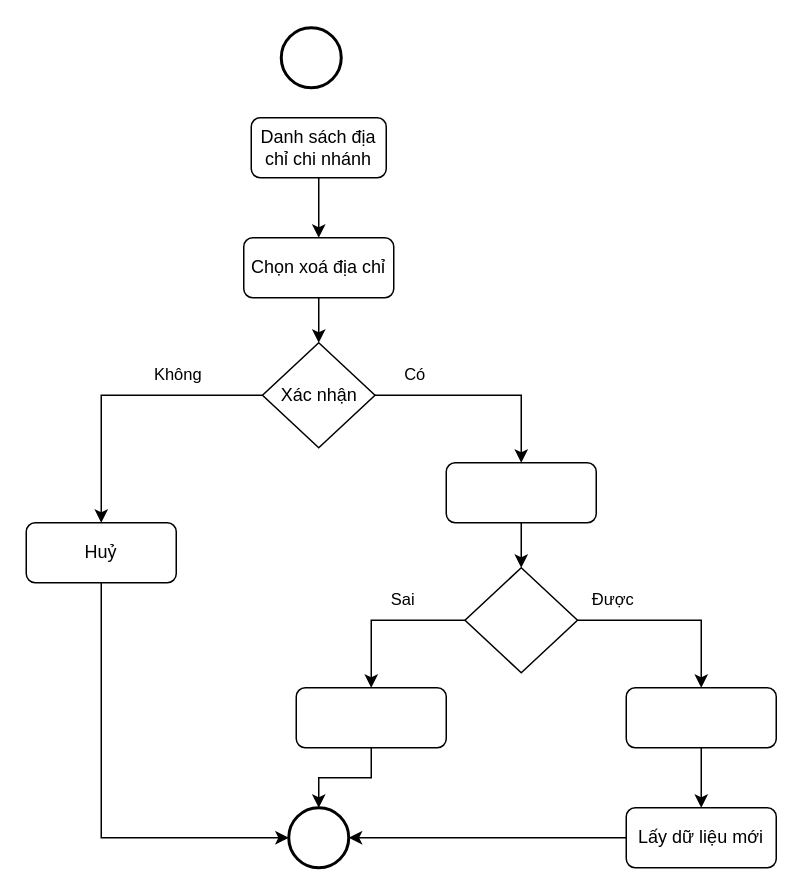
Some shapes in this 803 by 894 pixel diagram are drawn without their labels. Each missing label, with the centre of its shape:
"Thông báo xoá thành công" goes at point (700, 717).
"Thông báo xoá thất bại" goes at point (370, 717).
"Xoá" goes at point (520, 492).
